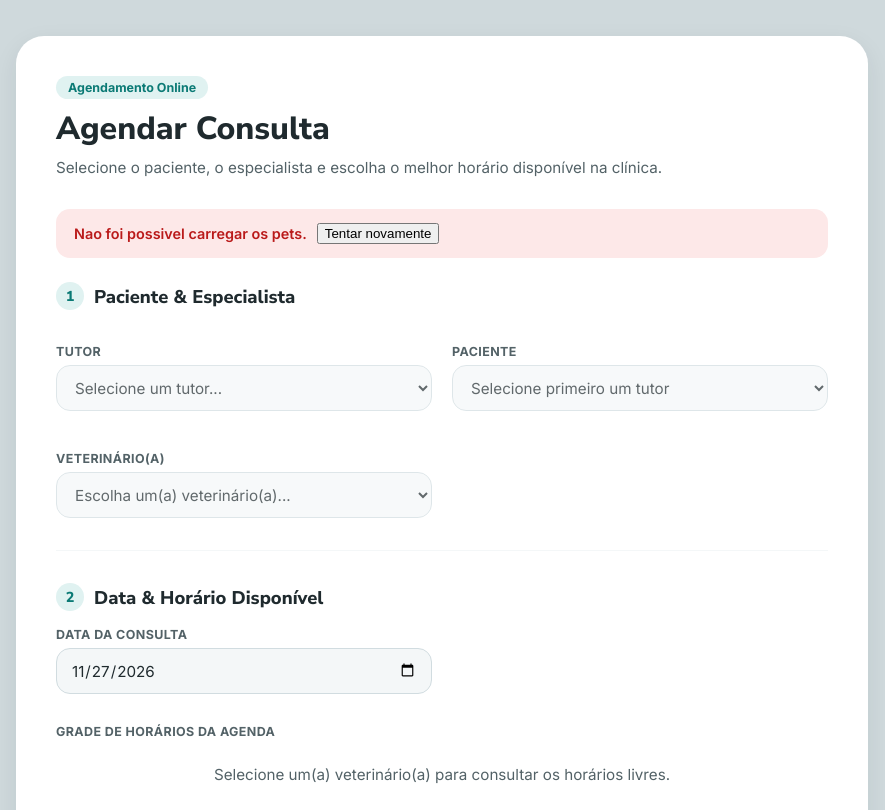
Test: lista vazia e erro de pets impedem agendamento e permitem tentar novamente
Expected: the dropdown labelled "TUTOR" is disabled, [56,365,432,411]
Click the button with class "btn-secundario".
click(378, 234)  # box [317,223,440,244]
(page scrolled)
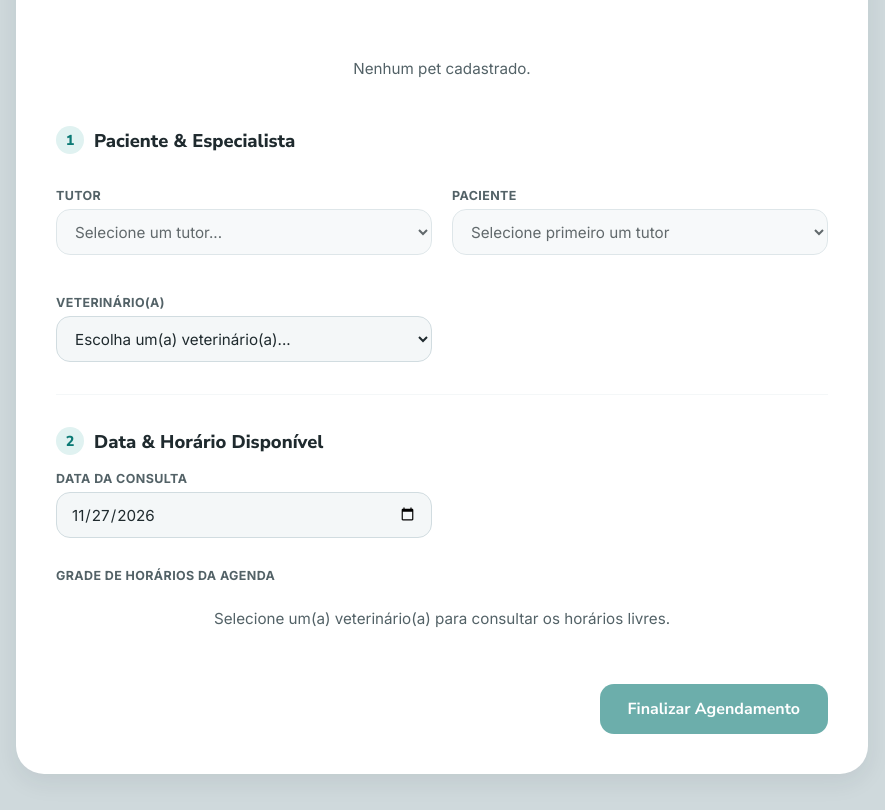
Expected: the submit button is disabled, [600,684,828,734]
Expected: the text "Nenhum pet cadastrado." is shown, [353,59,531,78]
